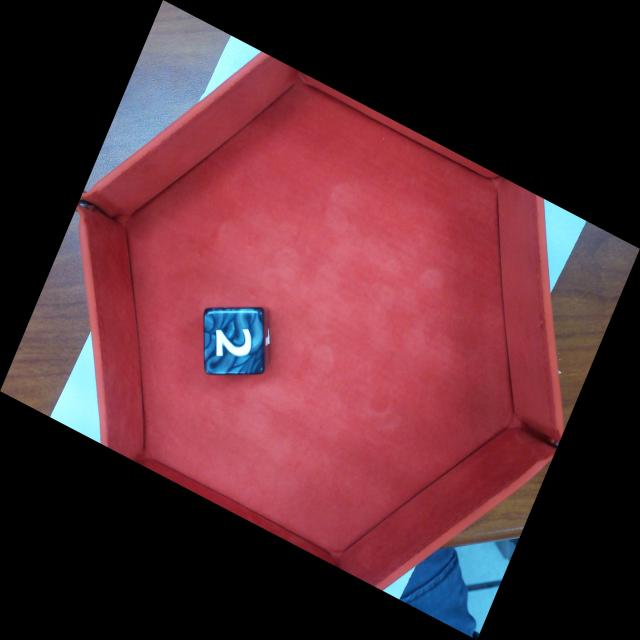dice: (206, 308, 262, 373)
